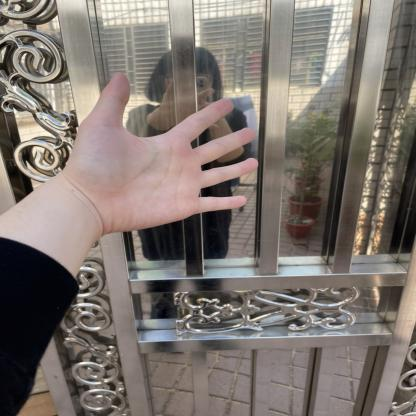bare_hand: (60, 66, 264, 235)
